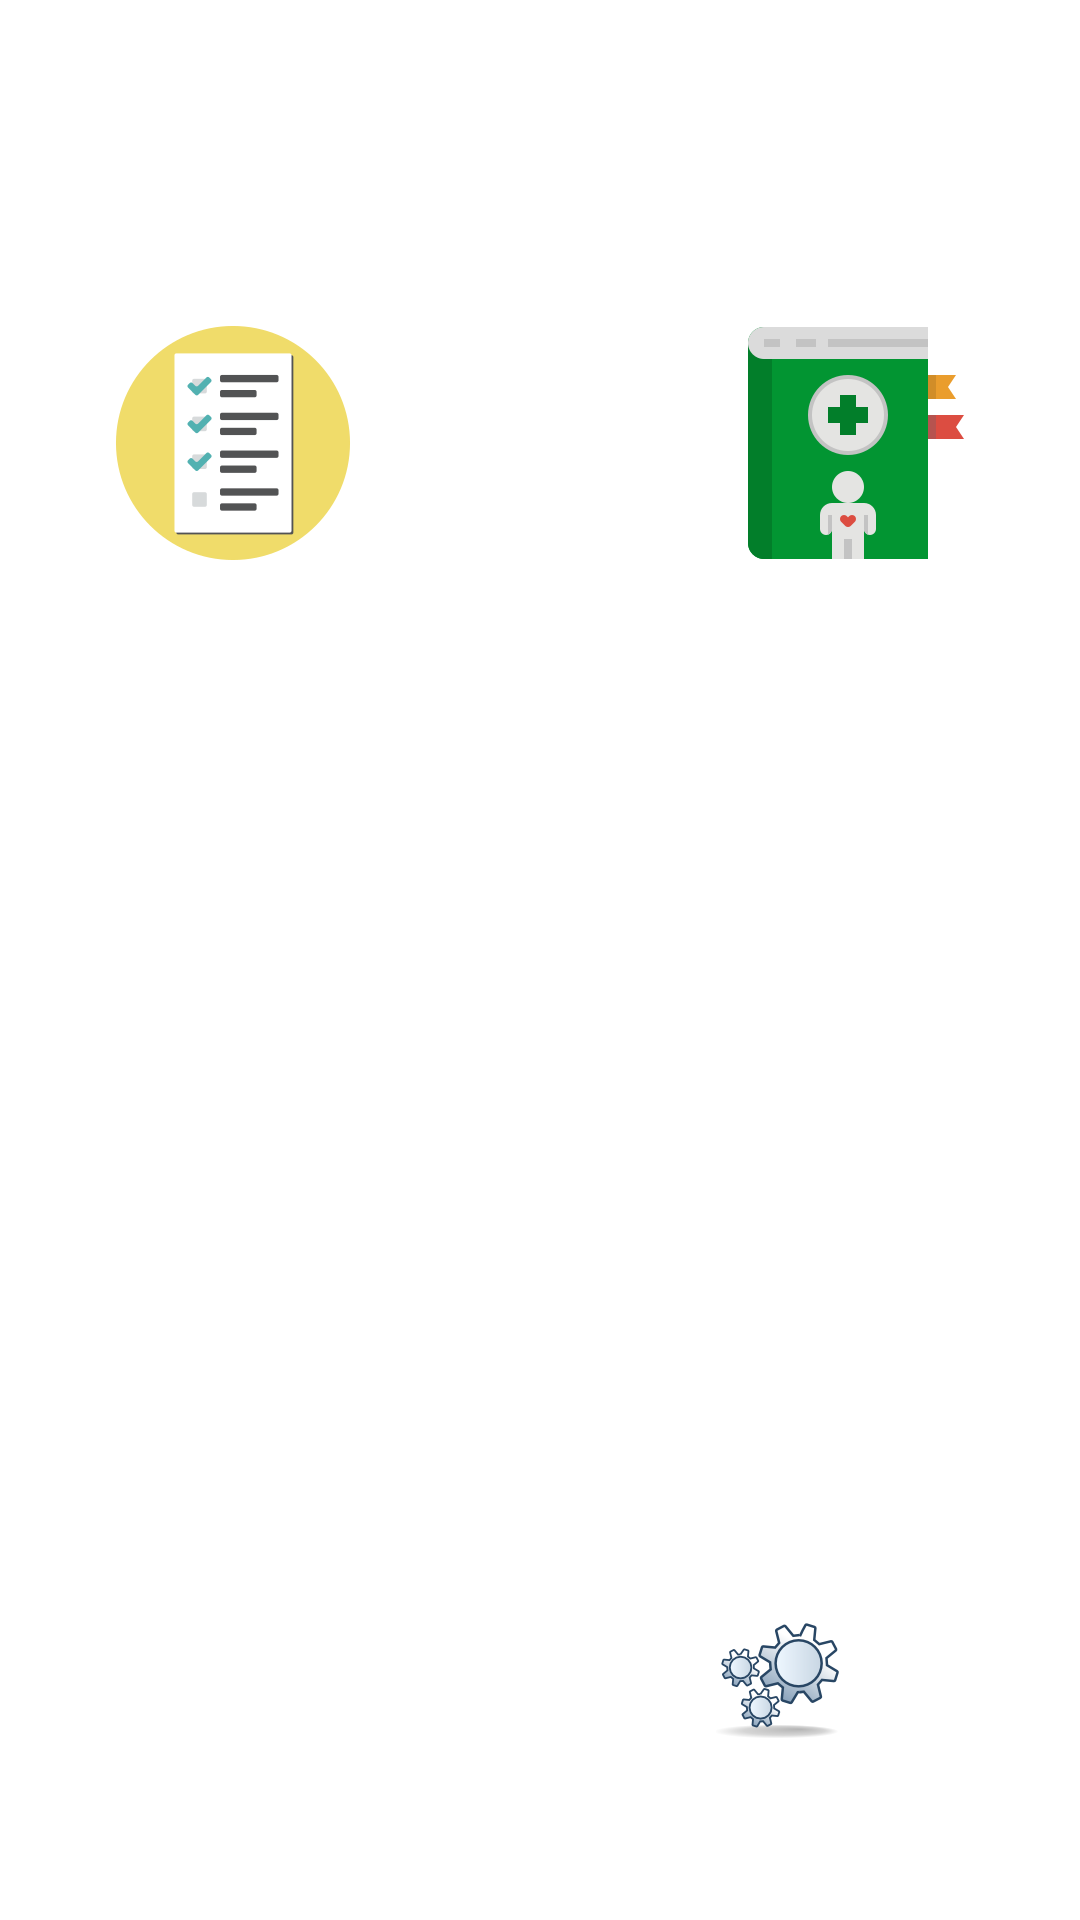

Locate icon controls on the screen. Image size 1080px×1920px, boxes as (left=x1, top=y1, right=x2, bottom=y2).
form: (left=116, top=326, right=350, bottom=560)
gears: (left=721, top=1623, right=839, bottom=1737)
